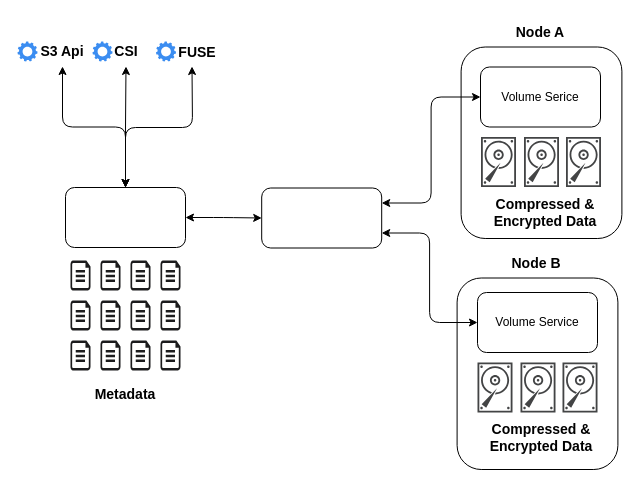
This 639x487 diagram has some shape labels left out. Each missing label, with the centre of its shape:
Control Server: point 321,217
Filer Service: point 125,217
